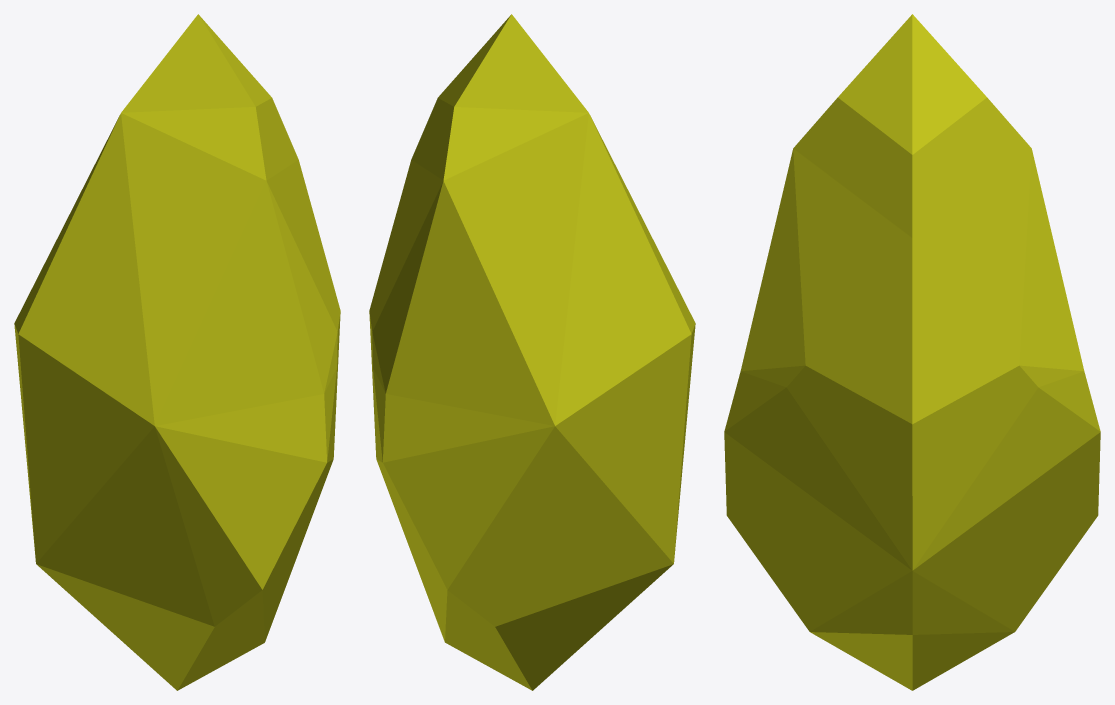
File: real_topaz.FBX
The picture shows the model from 3 angles, left to right: view 1: azimuth 30°, elevation 25°; view 2: azimuth 150°, elevation 25°; view 3: azimuth 270°, elevation 25°; orthographic projection. The views are drawn at different scales.
Parts seen in each view (by area): view 1: crystal7_low001; view 2: crystal7_low001; view 3: crystal7_low001.
Boxes of the visible parts, box(x1,y1,x2,y2) form: crystal7_low001: box(14, 14, 340, 690); crystal7_low001: box(369, 14, 695, 690); crystal7_low001: box(724, 14, 1100, 690).
Bounding box in the file's own units: 15.87 × 31.61 × 15.69.
